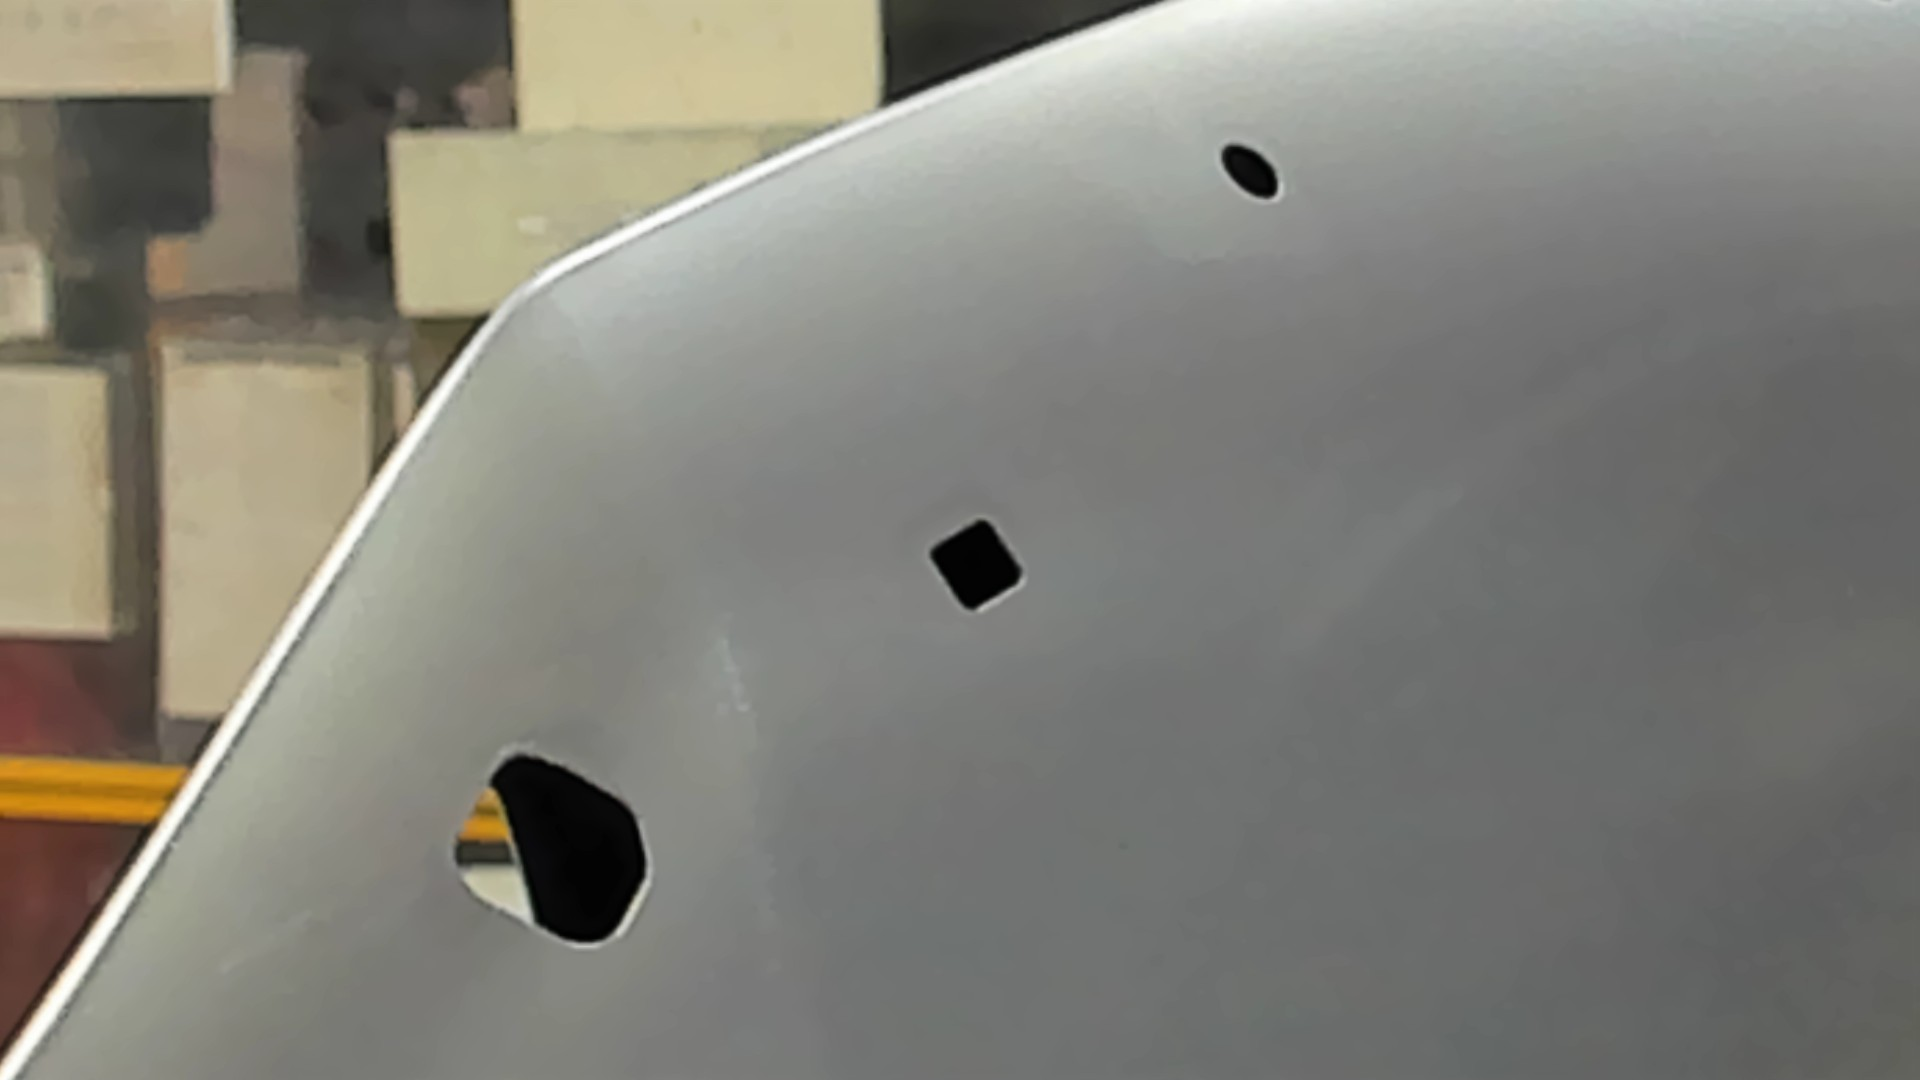chico: (1215, 137, 1283, 204)
grande: (446, 744, 657, 953)
mediano: (924, 513, 1030, 617)
